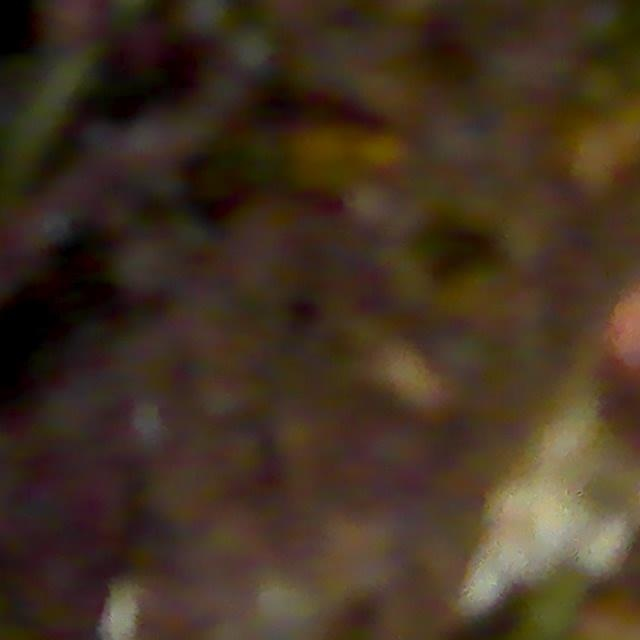SeaGrape: (40, 0, 100, 50), (573, 61, 626, 116), (572, 0, 631, 48), (173, 0, 228, 40)
